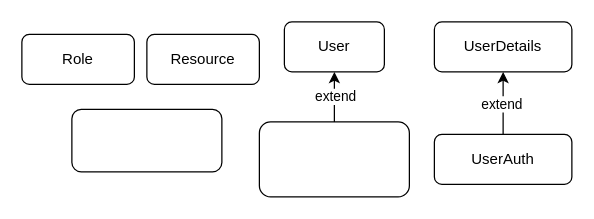
Image size: 594x219. Some labels were removed from this diagram. The centre of each missing label's shape, as x and y in pixels:
LoginDTO (username,password): the point at 146,140
LoginVo （token,roleLables，reourcePaths）: the point at 333,159
